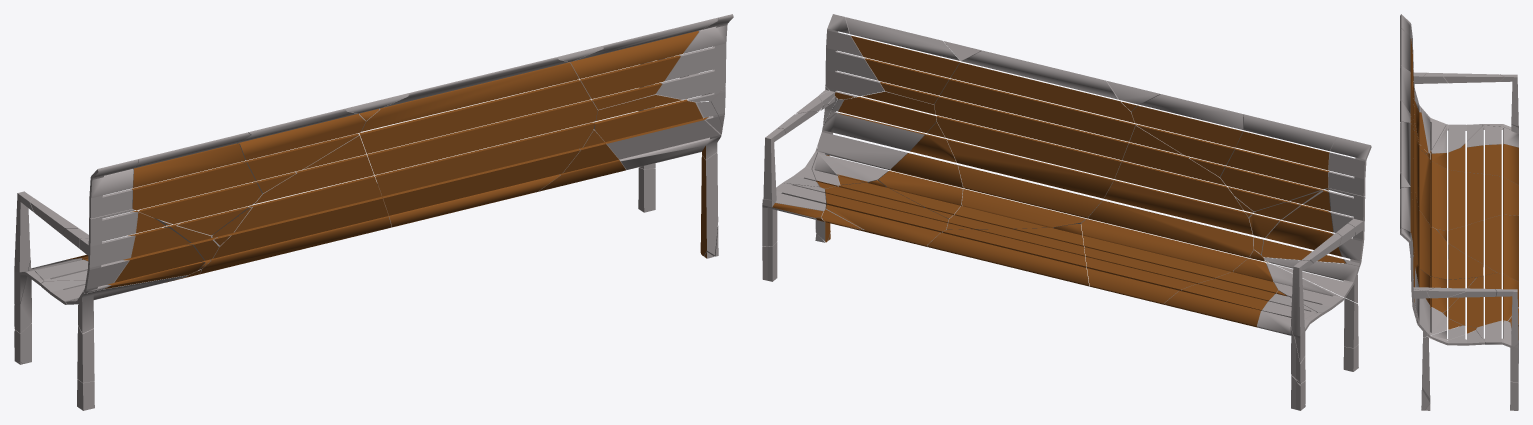
The model's file is BenchCellFracture.fbx.
3 renders of one model, left to right at view 1: azimuth 30°, elevation 25°; view 2: azimuth 150°, elevation 25°; view 3: azimuth 270°, elevation 25°, orthographic. The views are drawn at different scales.
Visible parts, largest first — view 1: Bench_cell.058, Bench_cell.057, Bench_cell.059, Bench_cell.062, Bench_cell.060, Bench_cell.025, Bench_cell.065, Bench_cell.080, Bench_cell.011, Bench_cell.072, Bench_cell.034, Bench_cell.085 (+30 smaller); view 2: Bench_cell.080, Bench_cell.058, Bench_cell.057, Bench_cell.059, Bench_cell.064, Bench_cell.060, Bench_cell.062, Bench_cell.025, Bench_cell.065, Bench_cell.061, Bench_cell.098, Bench_cell.024 (+53 smaller); view 3: Bench_cell.042, Bench_cell.024, Bench_cell.066, Bench_cell.098, Bench_cell.080, Bench_cell.097, Bench_cell.035, Bench_cell.009, Bench_cell.067, Bench_cell.023, Bench_cell.064, Bench_cell.051 (+46 smaller).
Part boxes in pixels (x1,y1,x2,y2): Bench_cell.058: [367, 100, 597, 174]; Bench_cell.057: [359, 79, 590, 153]; Bench_cell.059: [375, 122, 594, 196]; Bench_cell.062: [361, 62, 578, 131]; Bench_cell.060: [382, 148, 580, 215]; Bench_cell.025: [656, 14, 733, 101]; Bench_cell.065: [212, 197, 388, 258]; Bench_cell.080: [605, 117, 721, 170]; Bench_cell.011: [79, 209, 137, 293]; Bench_cell.072: [234, 176, 381, 232]; Bench_cell.034: [132, 162, 255, 210]; Bench_cell.085: [139, 182, 261, 224]; Bench_cell.080: [817, 113, 925, 182]; Bench_cell.058: [934, 96, 1130, 160]; Bench_cell.057: [940, 79, 1136, 141]; Bench_cell.059: [936, 116, 1123, 178]; Bench_cell.064: [1088, 200, 1254, 258]; Bench_cell.060: [947, 139, 1114, 198]; Bench_cell.062: [950, 62, 1134, 122]; Bench_cell.025: [819, 14, 884, 105]; Bench_cell.065: [1104, 180, 1253, 234]; Bench_cell.061: [958, 165, 1102, 218]; Bench_cell.098: [927, 232, 1089, 286]; Bench_cell.024: [1081, 219, 1247, 272]; Bench_cell.042: [1476, 289, 1518, 349]; Bench_cell.024: [1430, 161, 1446, 230]; Bench_cell.066: [1448, 170, 1465, 230]; Bench_cell.098: [1503, 214, 1518, 281]; Bench_cell.080: [1414, 267, 1446, 337]; Bench_cell.097: [1485, 215, 1501, 273]; Bench_cell.035: [1430, 124, 1482, 154]; Bench_cell.009: [1467, 124, 1518, 147]; Bench_cell.067: [1467, 172, 1483, 225]; Bench_cell.023: [1430, 226, 1446, 279]; Bench_cell.064: [1419, 149, 1430, 224]; Bench_cell.051: [1421, 325, 1465, 401].
Bounding box in the file's own units: 259 × 98.37 × 59.42.
